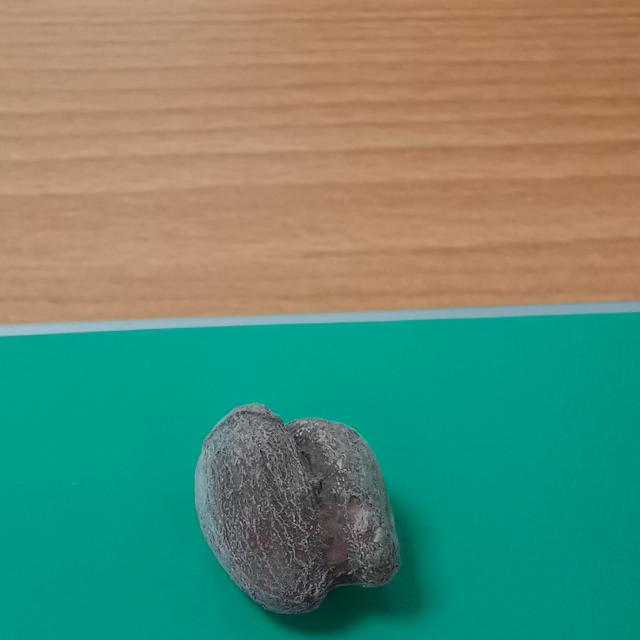Agglomerated_cocoabeans: (101, 384, 501, 640)
